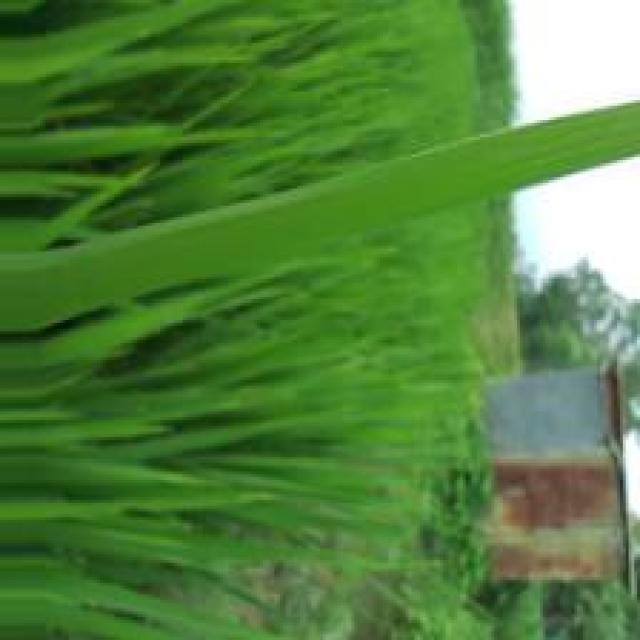HealthyLeaf: (3, 120, 584, 326)
